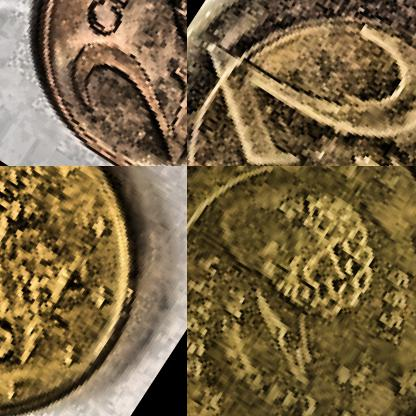coin: (187, 166, 415, 415), (0, 166, 186, 415), (187, 0, 415, 165), (0, 0, 186, 165)
